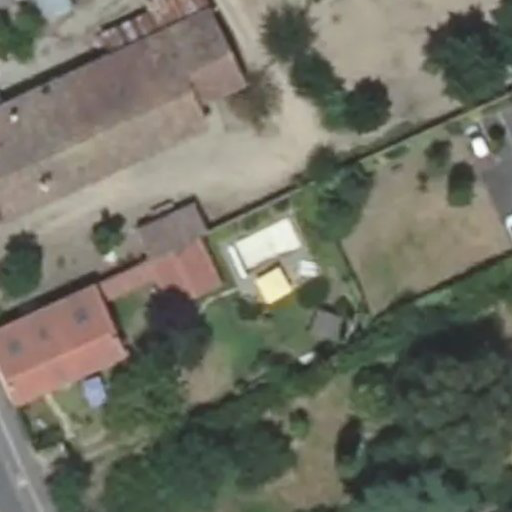pool: (219, 240, 292, 243)
